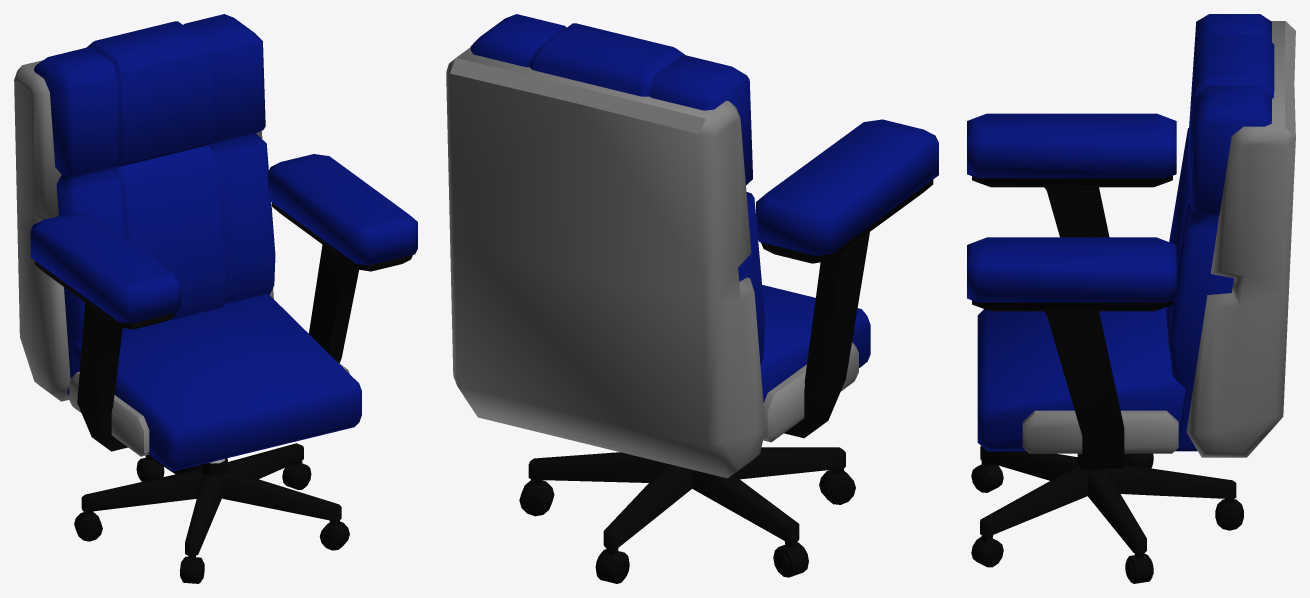
Rendered from ML_chair.fbx.
The picture shows the model from 3 angles, left to right: view 1: azimuth 30°, elevation 25°; view 2: azimuth 150°, elevation 25°; view 3: azimuth 270°, elevation 25°; orthographic projection. The views are drawn at different scales.
Visible parts, largest first — view 1: ML_Chair; view 2: ML_Chair; view 3: ML_Chair.
Part boxes in pixels (x1,y1,x2,y2): ML_Chair: (14,14,417,583); ML_Chair: (446,14,938,583); ML_Chair: (967,14,1295,583).
Bounding box in the file's own units: 91.7 × 129 × 81.45.
